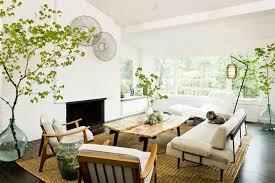chair: (74, 136, 160, 183), (38, 115, 92, 169), (166, 88, 233, 118)
fan: (91, 30, 119, 68), (72, 13, 99, 47)
light: (225, 48, 252, 111)
sofa: (168, 107, 248, 180)
table: (109, 113, 191, 145)
